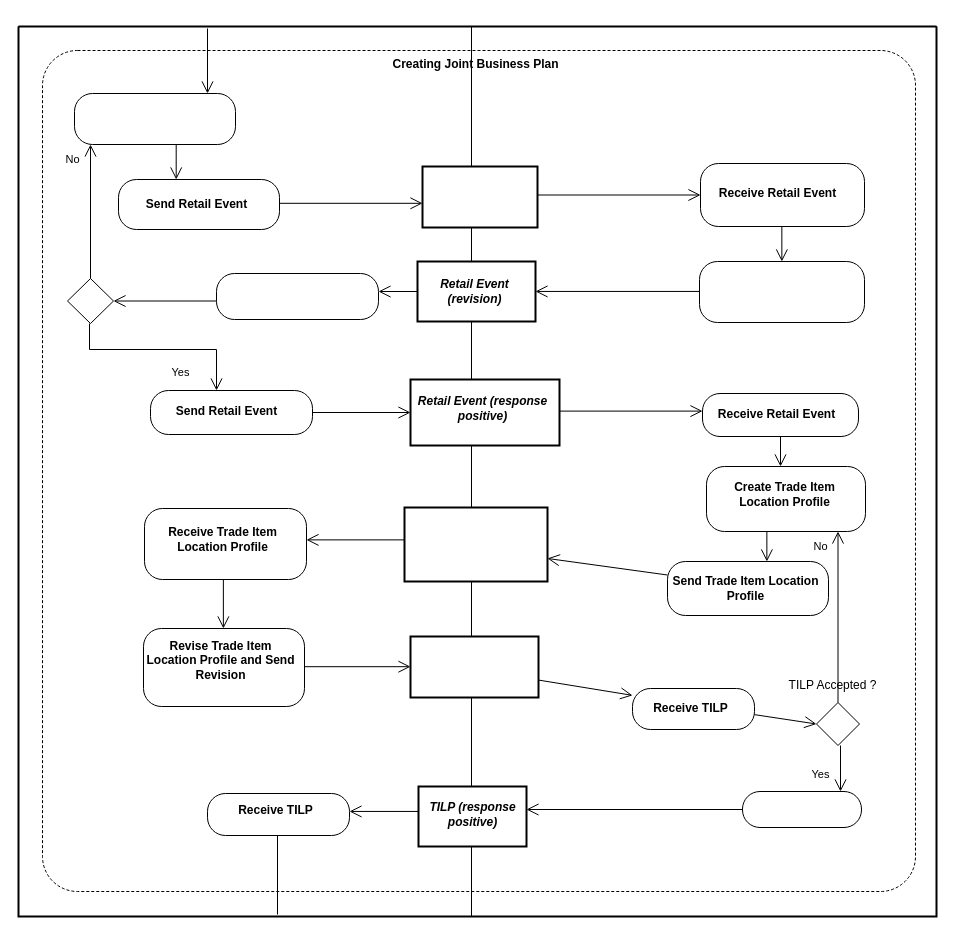
This 954x935 diagram has some shape labels left out. The shapes that lost their labels are listed below. From the top down, each one's centre as x and y in pixels, then its label:
(155,118): Create Retail Event
(479,196): Retail Event
(90,301): Retail Event Accepted ?
(297,296): Receive Retail Event Revision
(781,291): Revise Retail Event and Send Revision
(475,544): Trade Item Location Profile
(474,666): Trade Item Location Profile (revision)
(802,809): Send TILP
